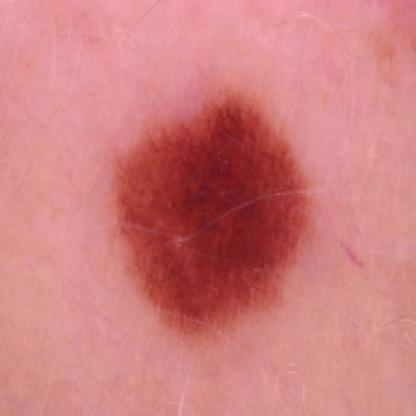benign: (108, 93, 334, 332)
